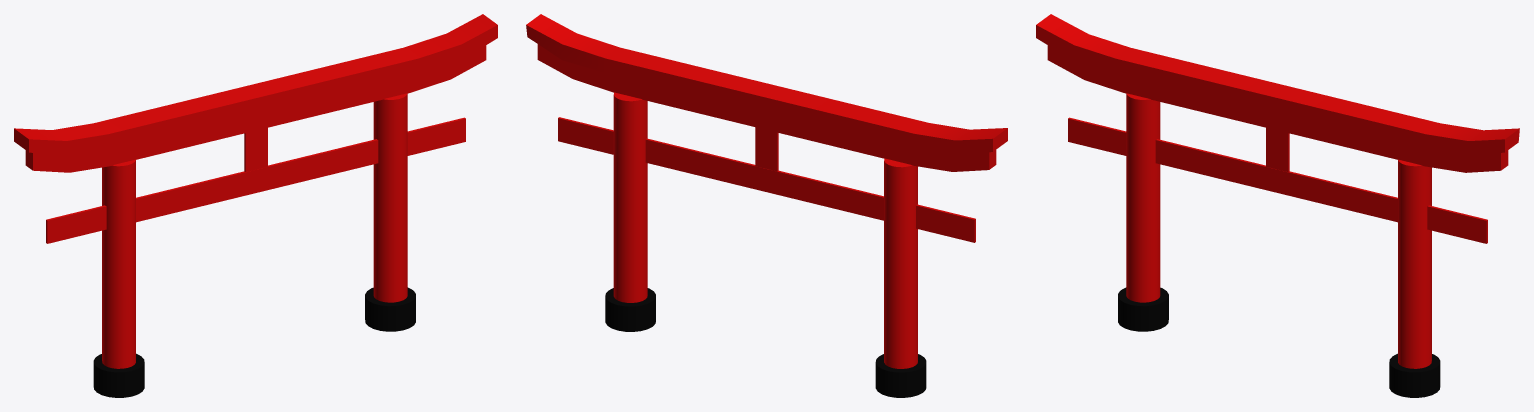
3 renders of one model, left to right at view 1: azimuth 30°, elevation 25°; view 2: azimuth 150°, elevation 25°; view 3: azimuth 330°, elevation 25°, orthographic.
Parts seen in each view (by area): view 1: Shrine_gate; view 2: Shrine_gate; view 3: Shrine_gate.
Boxes of the visible parts, x1,y1,x2,y2 form: Shrine_gate: (14,14,497,397); Shrine_gate: (526,14,1007,397); Shrine_gate: (1036,14,1519,397).
Bounding box in the file's own units: 199 × 113 × 18.85.
